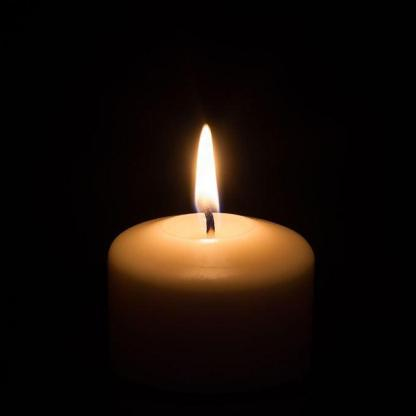fire: (174, 106, 245, 240)
